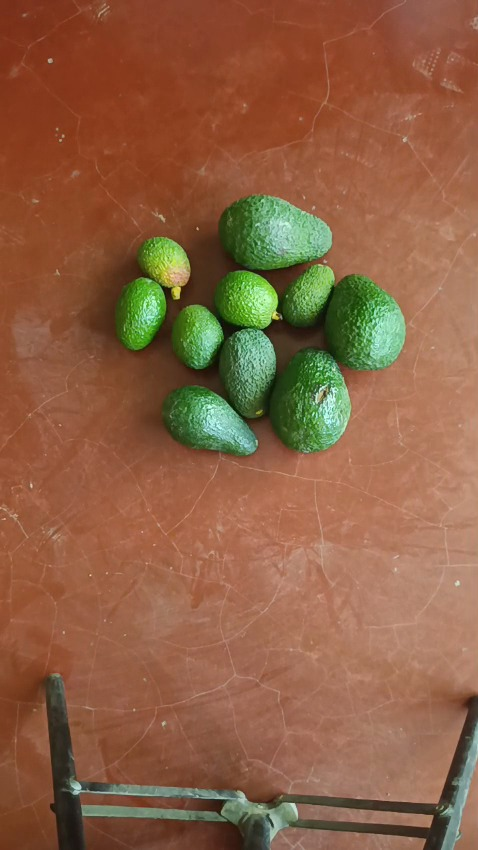Primera: (217, 195, 330, 270), (268, 348, 350, 451), (324, 273, 406, 370)
Segunda: (161, 385, 259, 455), (217, 328, 276, 418)
Tercera: (213, 270, 279, 329), (115, 277, 166, 351), (279, 265, 334, 328), (171, 304, 223, 369), (136, 236, 191, 288)
